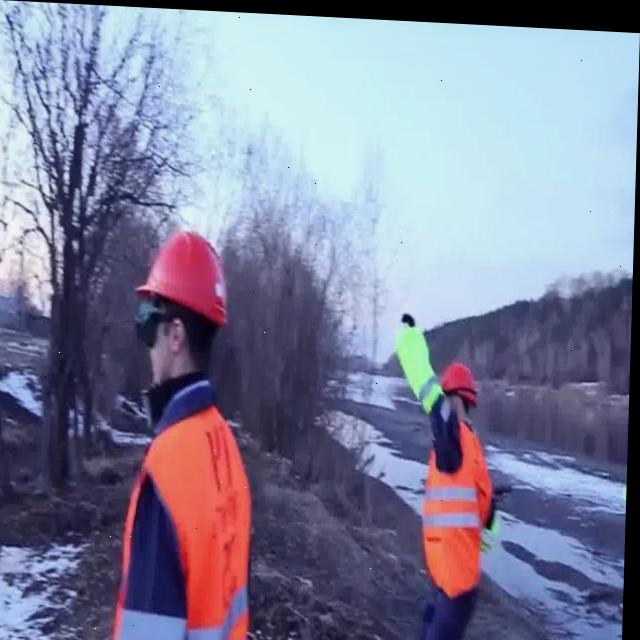Gloves: (403, 308, 418, 322)
Helmet: (138, 223, 237, 325), (443, 356, 482, 401)
Safety-Vest: (115, 374, 260, 640), (423, 405, 501, 594)
